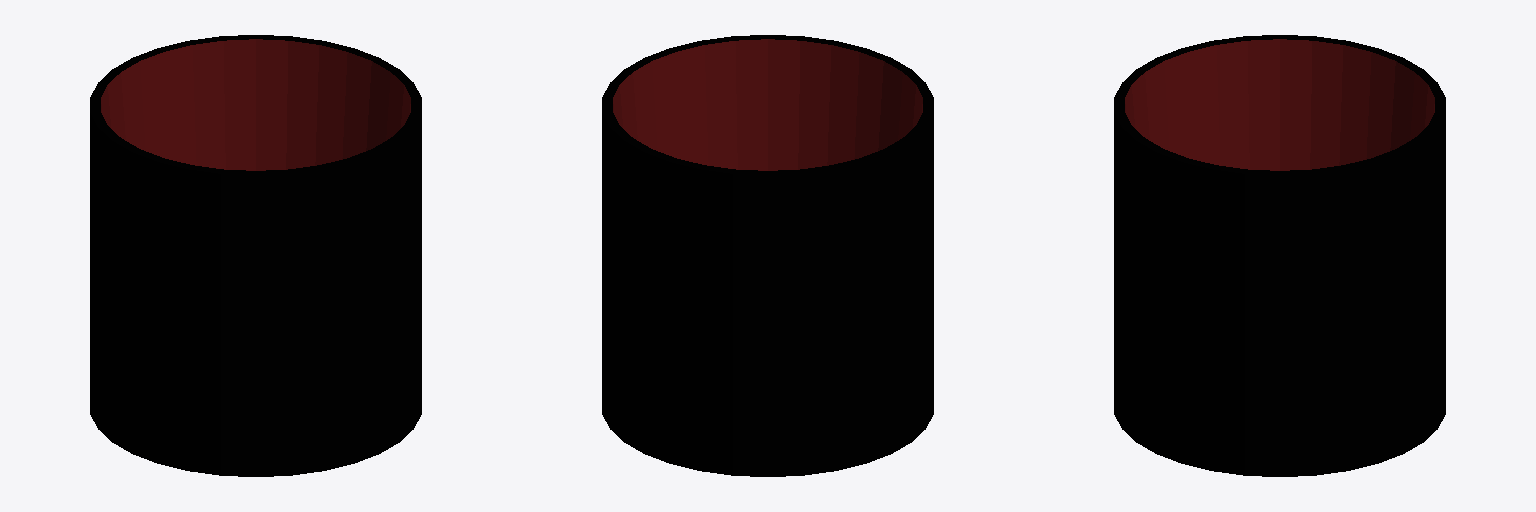
The model's file is cup.obj.
3 views of the same model, side by side, from view 1: azimuth 30°, elevation 25°; view 2: azimuth 150°, elevation 25°; view 3: azimuth 270°, elevation 25° (orthographic).
Visible parts, largest first — view 1: pCylinder1; view 2: pCylinder1; view 3: pCylinder1.
Part boxes in pixels (x1,y1,x2,y2): pCylinder1: (90, 35, 421, 476); pCylinder1: (602, 35, 933, 476); pCylinder1: (1114, 35, 1445, 476).
Bounding box in the file's own units: 8 × 8 × 7.96.